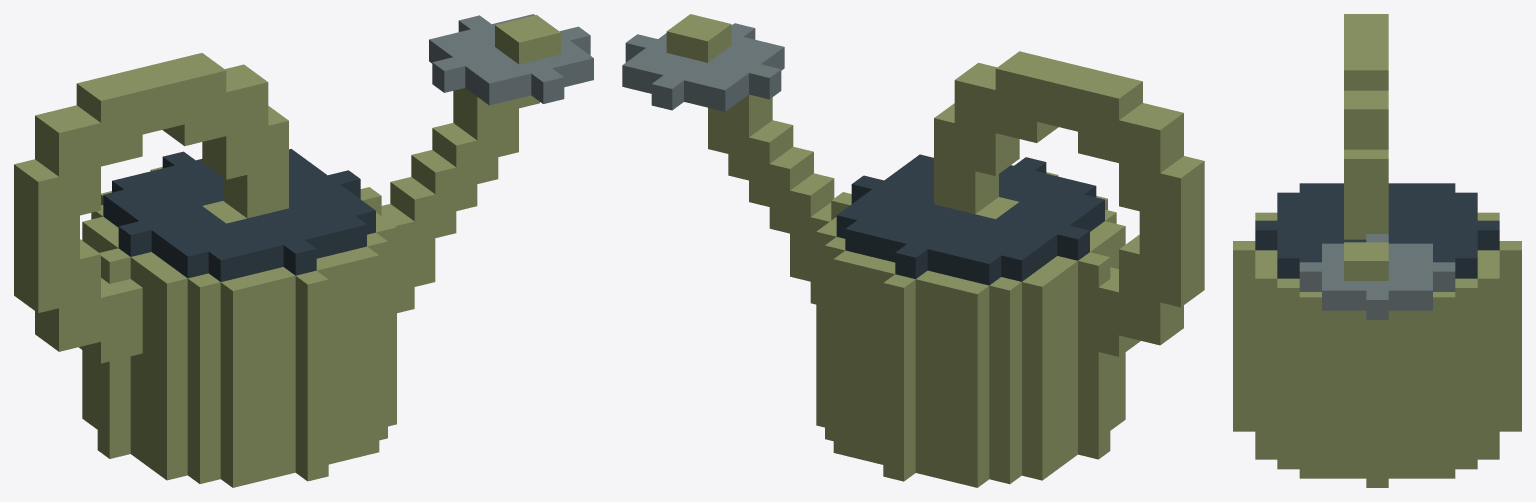
File: agriculture-06.glb
The picture shows the model from 3 angles, left to right: view 1: azimuth 30°, elevation 25°; view 2: azimuth 150°, elevation 25°; view 3: azimuth 270°, elevation 25°; orthographic projection. The views are drawn at different scales.
Visible parts, largest first — view 1: Watering can; view 2: Watering can; view 3: Watering can.
Part boxes in pixels (bbox=[...]): Watering can: bbox=[14, 14, 593, 487]; Watering can: bbox=[622, 14, 1204, 487]; Watering can: bbox=[1233, 14, 1521, 487].
Bounding box in the file's own units: 2.16 × 1.36 × 1.04.
